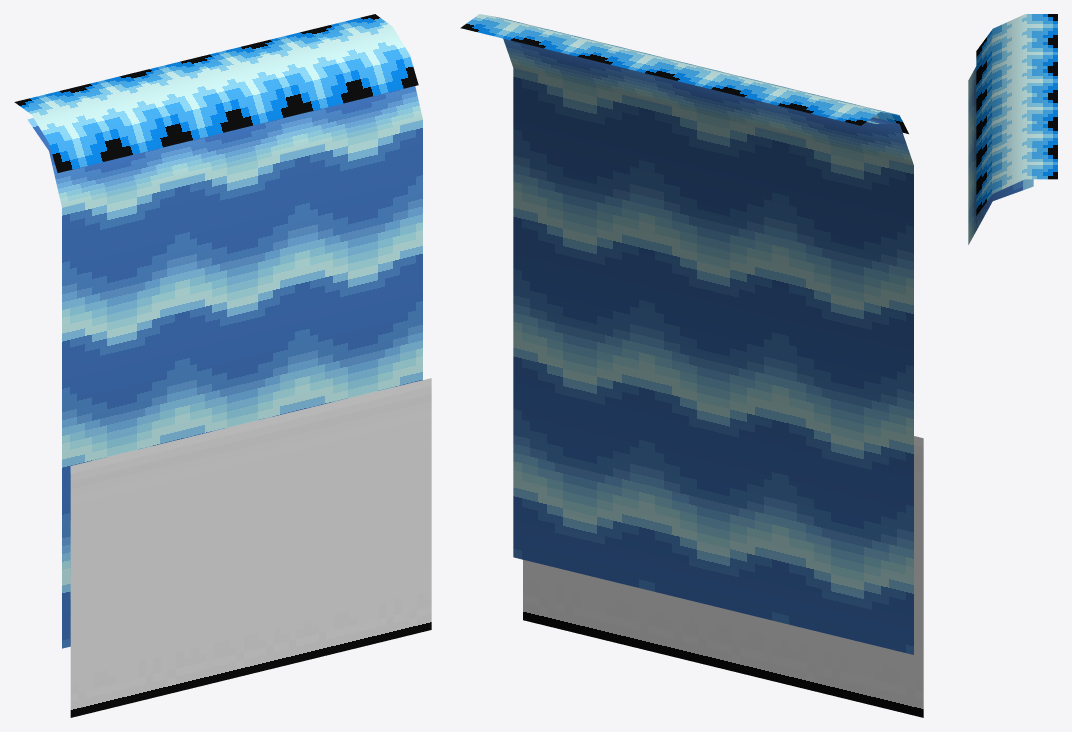
File: Waterfall 1.obj
3 views of the same model, side by side, from view 1: azimuth 30°, elevation 25°; view 2: azimuth 150°, elevation 25°; view 3: azimuth 270°, elevation 25° (orthographic). The views are drawn at different scales.
Visible parts, largest first — view 1: polygon1, polygon0, polygon2; view 2: polygon1, polygon0, polygon2; view 3: polygon2, polygon1.
Boxes of the visible parts, x1,y1,x2,y2 form: polygon1: [27, 86, 422, 648]; polygon0: [70, 378, 431, 717]; polygon2: [14, 14, 418, 172]; polygon1: [503, 38, 913, 654]; polygon0: [523, 436, 923, 717]; polygon2: [460, 14, 908, 133]; polygon2: [976, 14, 1057, 215]; polygon1: [968, 66, 1033, 244].
Size of the model in its own units: 48 by 73 by 13.
3 materials, 3 textured.
